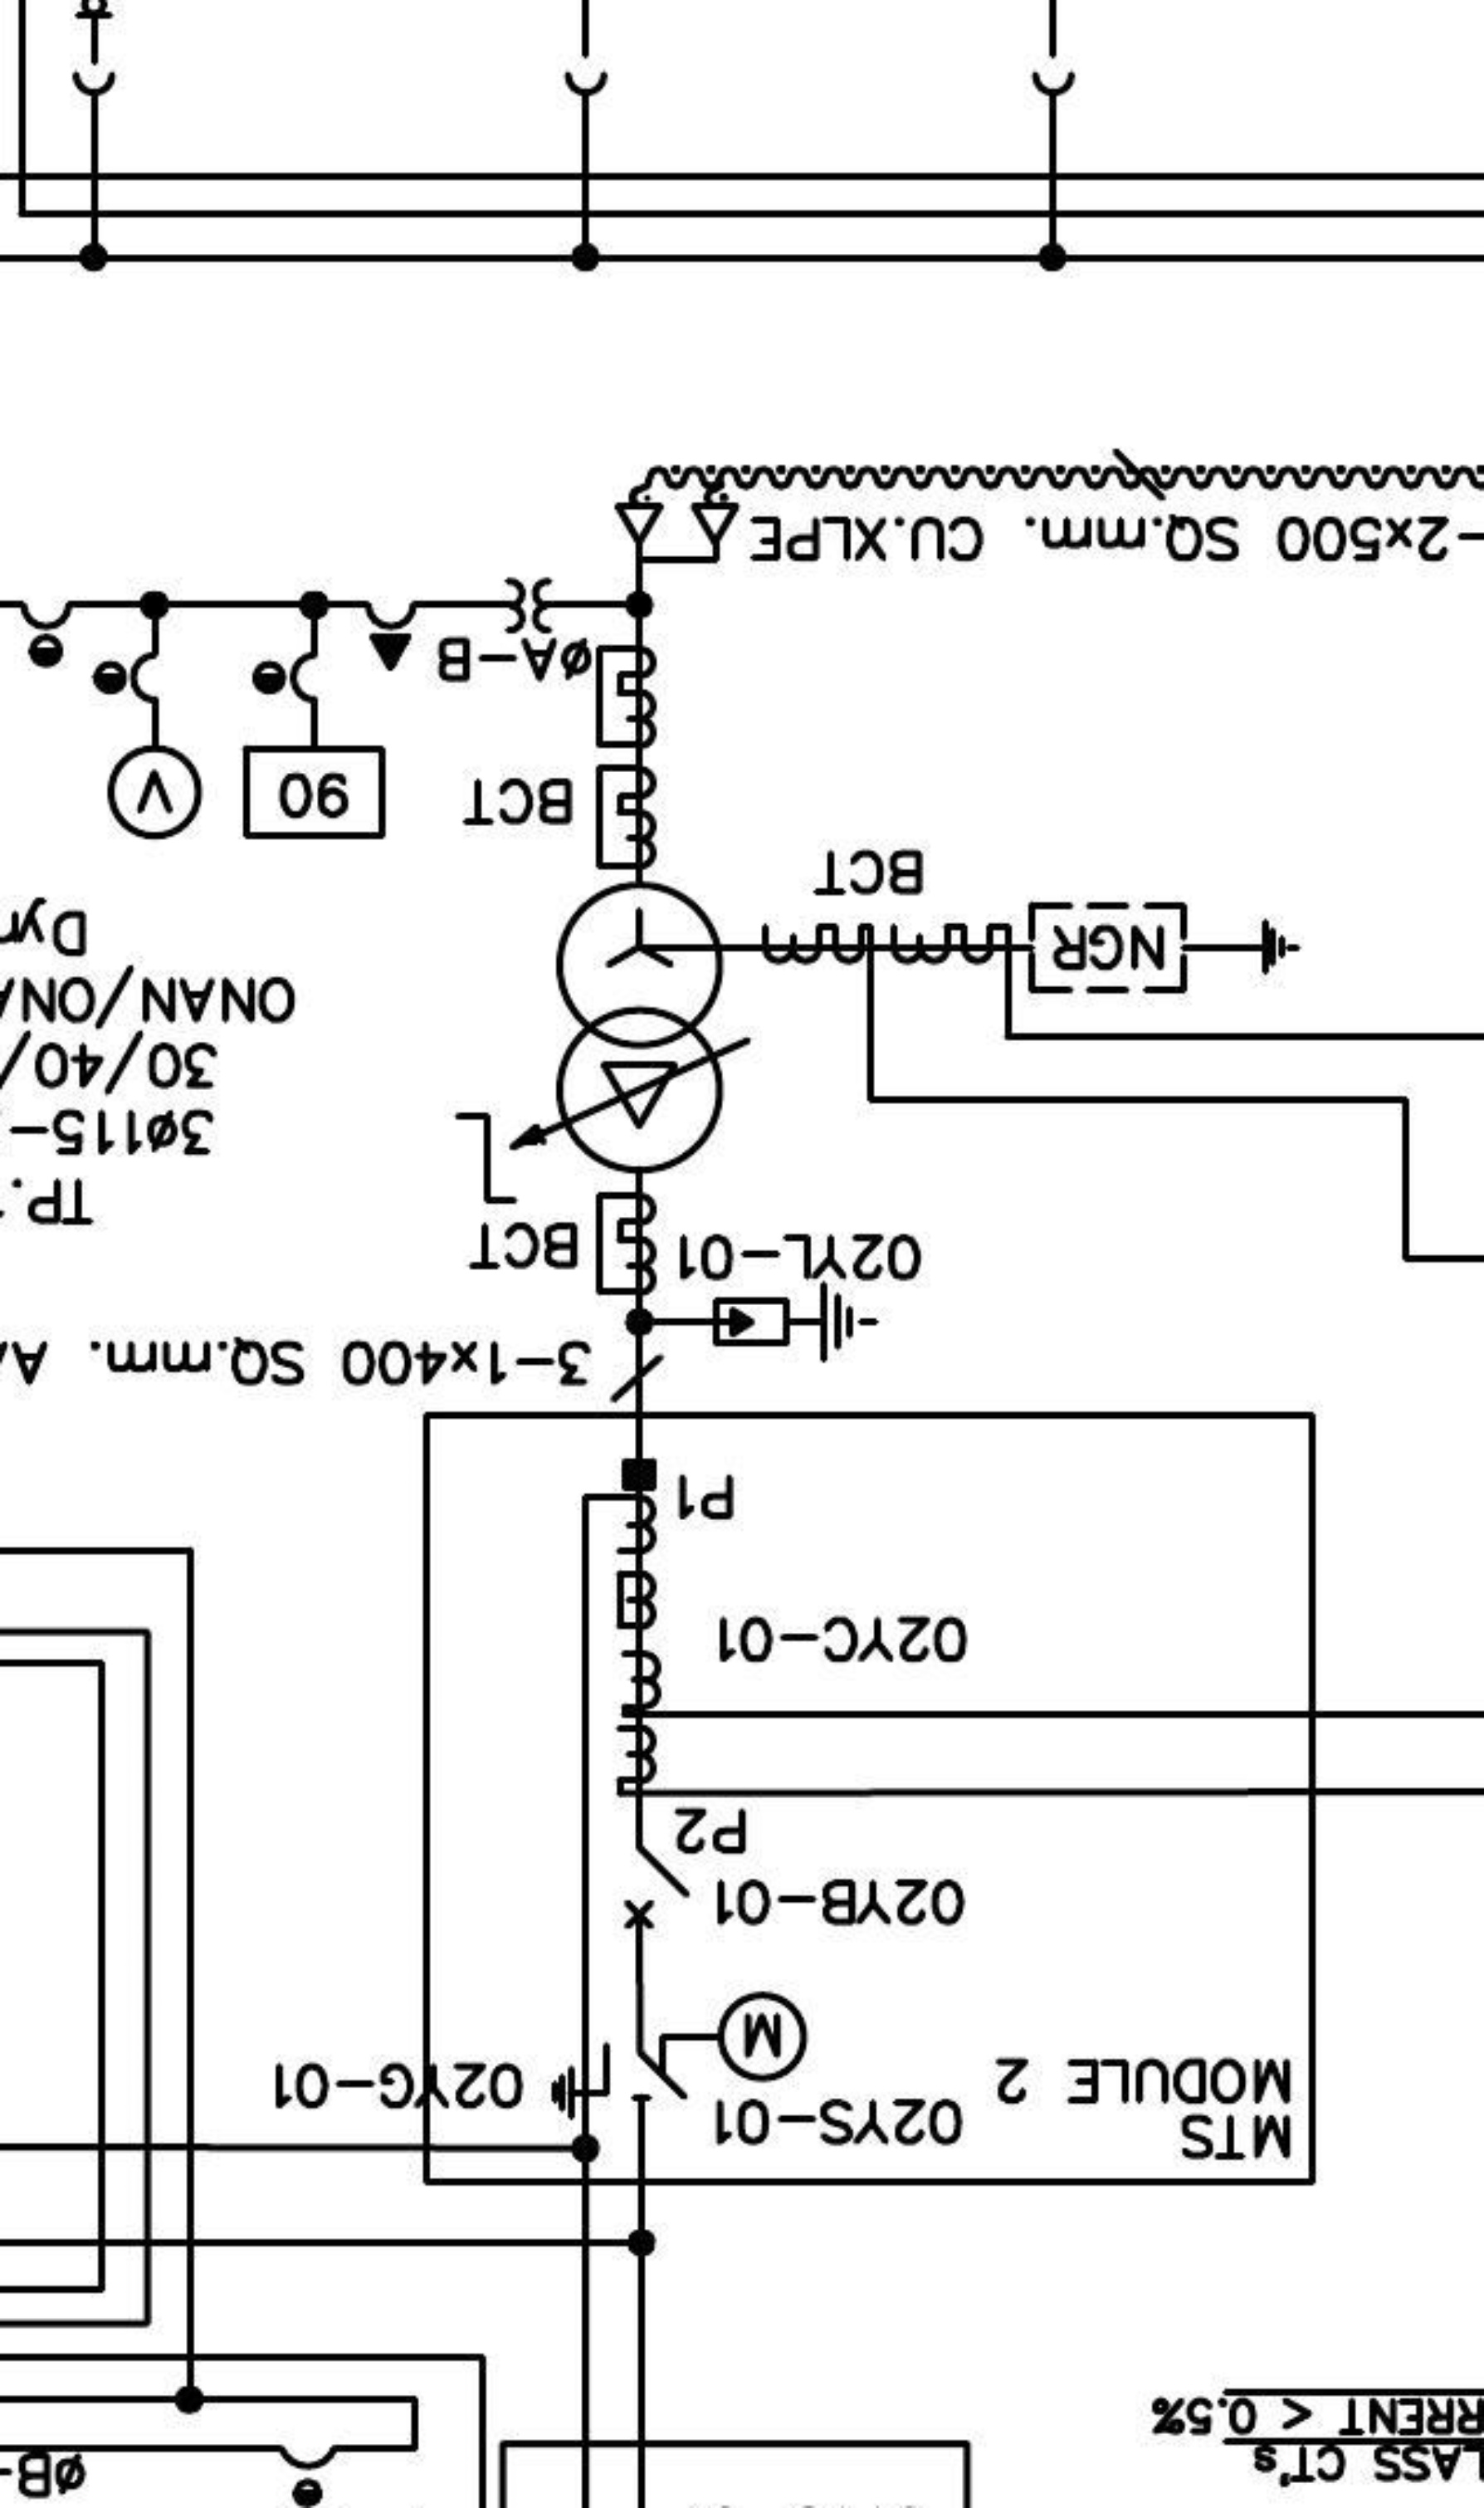11522_tx_dyn1: (555, 880, 724, 1175)
115_3ways_ds_w_motor: (549, 1989, 811, 2123)
115_breaker: (622, 1844, 693, 1930)
115_la: (710, 1279, 882, 1365)
NGR_future: (1026, 901, 1302, 994)
terminator_double: (613, 502, 740, 565)
v_m: (104, 744, 205, 842)
